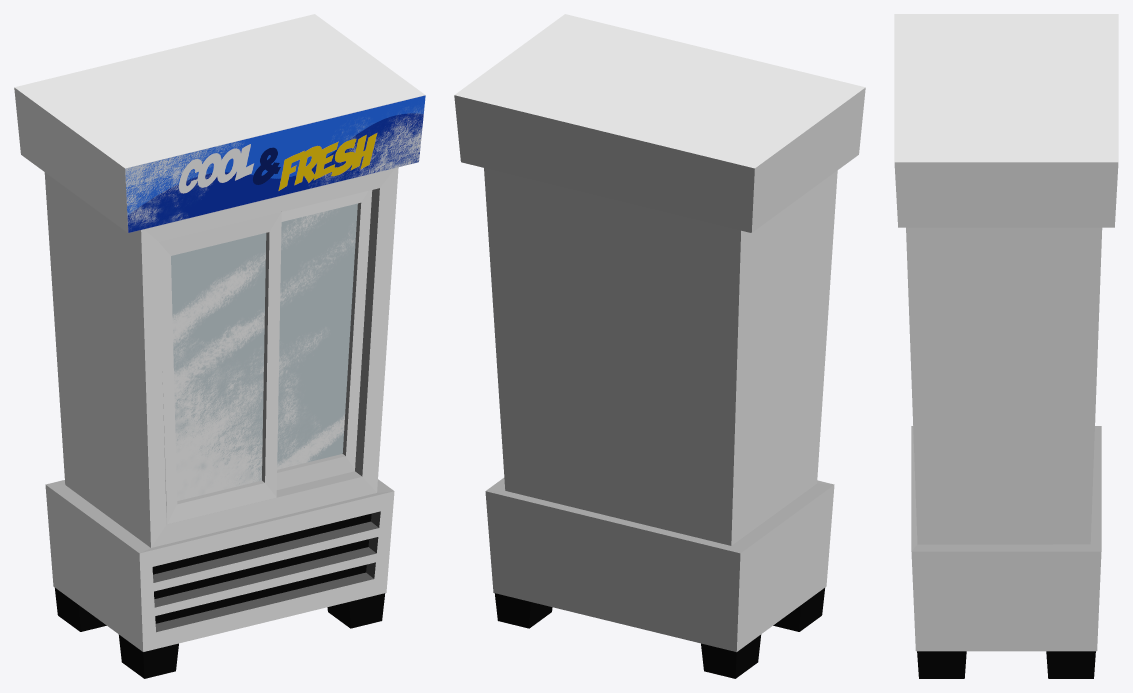
The model's file is 음료냉장고(소).fbx.
3 views of the same model, side by side, from view 1: azimuth 30°, elevation 25°; view 2: azimuth 150°, elevation 25°; view 3: azimuth 270°, elevation 25° (orthographic).
Parts seen in each view (by area): view 1: 음료냉장고(소); view 2: 음료냉장고(소); view 3: 음료냉장고(소).
Boxes of the visible parts, x1,y1,x2,y2 form: 음료냉장고(소): (14,14,425,678); 음료냉장고(소): (454,14,865,678); 음료냉장고(소): (894,14,1118,678).
Size of the model in its own units: 8742 by 14644 by 5585.
Materials: 1 (1 with a texture image).
